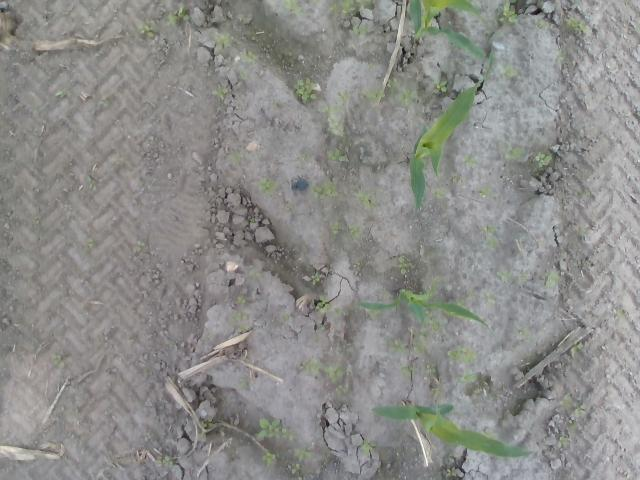Maize: (406, 51, 498, 209), (372, 402, 534, 459), (356, 279, 497, 338), (409, 1, 486, 60)
Weeds: (256, 416, 294, 442), (318, 104, 344, 136), (294, 77, 318, 104), (446, 344, 478, 364), (334, 0, 374, 16), (369, 79, 398, 99), (498, 0, 519, 26), (480, 224, 497, 250), (280, 0, 302, 18), (566, 20, 594, 34), (168, 6, 191, 23), (311, 182, 335, 198), (232, 310, 250, 331), (400, 87, 418, 106), (456, 369, 476, 384), (326, 366, 342, 384), (294, 448, 312, 464), (356, 194, 376, 208), (215, 32, 232, 48), (390, 339, 408, 354), (433, 78, 449, 94), (156, 454, 173, 469), (134, 22, 152, 36), (259, 178, 274, 194), (302, 359, 318, 374), (328, 148, 345, 162), (262, 451, 276, 468), (317, 295, 332, 310), (212, 84, 226, 100), (398, 256, 410, 274), (504, 148, 520, 161), (544, 271, 556, 288), (361, 438, 378, 450), (335, 384, 352, 396), (348, 228, 362, 242), (423, 362, 437, 376), (535, 154, 551, 166), (401, 364, 414, 378), (240, 48, 254, 61), (199, 415, 213, 428), (286, 462, 301, 474), (481, 292, 496, 304), (502, 67, 518, 78), (233, 150, 249, 161), (352, 25, 368, 35), (134, 239, 146, 252), (464, 155, 478, 166), (309, 272, 321, 284), (52, 354, 64, 366), (558, 436, 568, 450), (88, 174, 96, 191), (329, 222, 339, 234), (434, 188, 446, 198), (414, 343, 424, 354), (236, 295, 247, 305), (54, 90, 65, 99), (479, 188, 488, 198), (536, 20, 545, 28)
